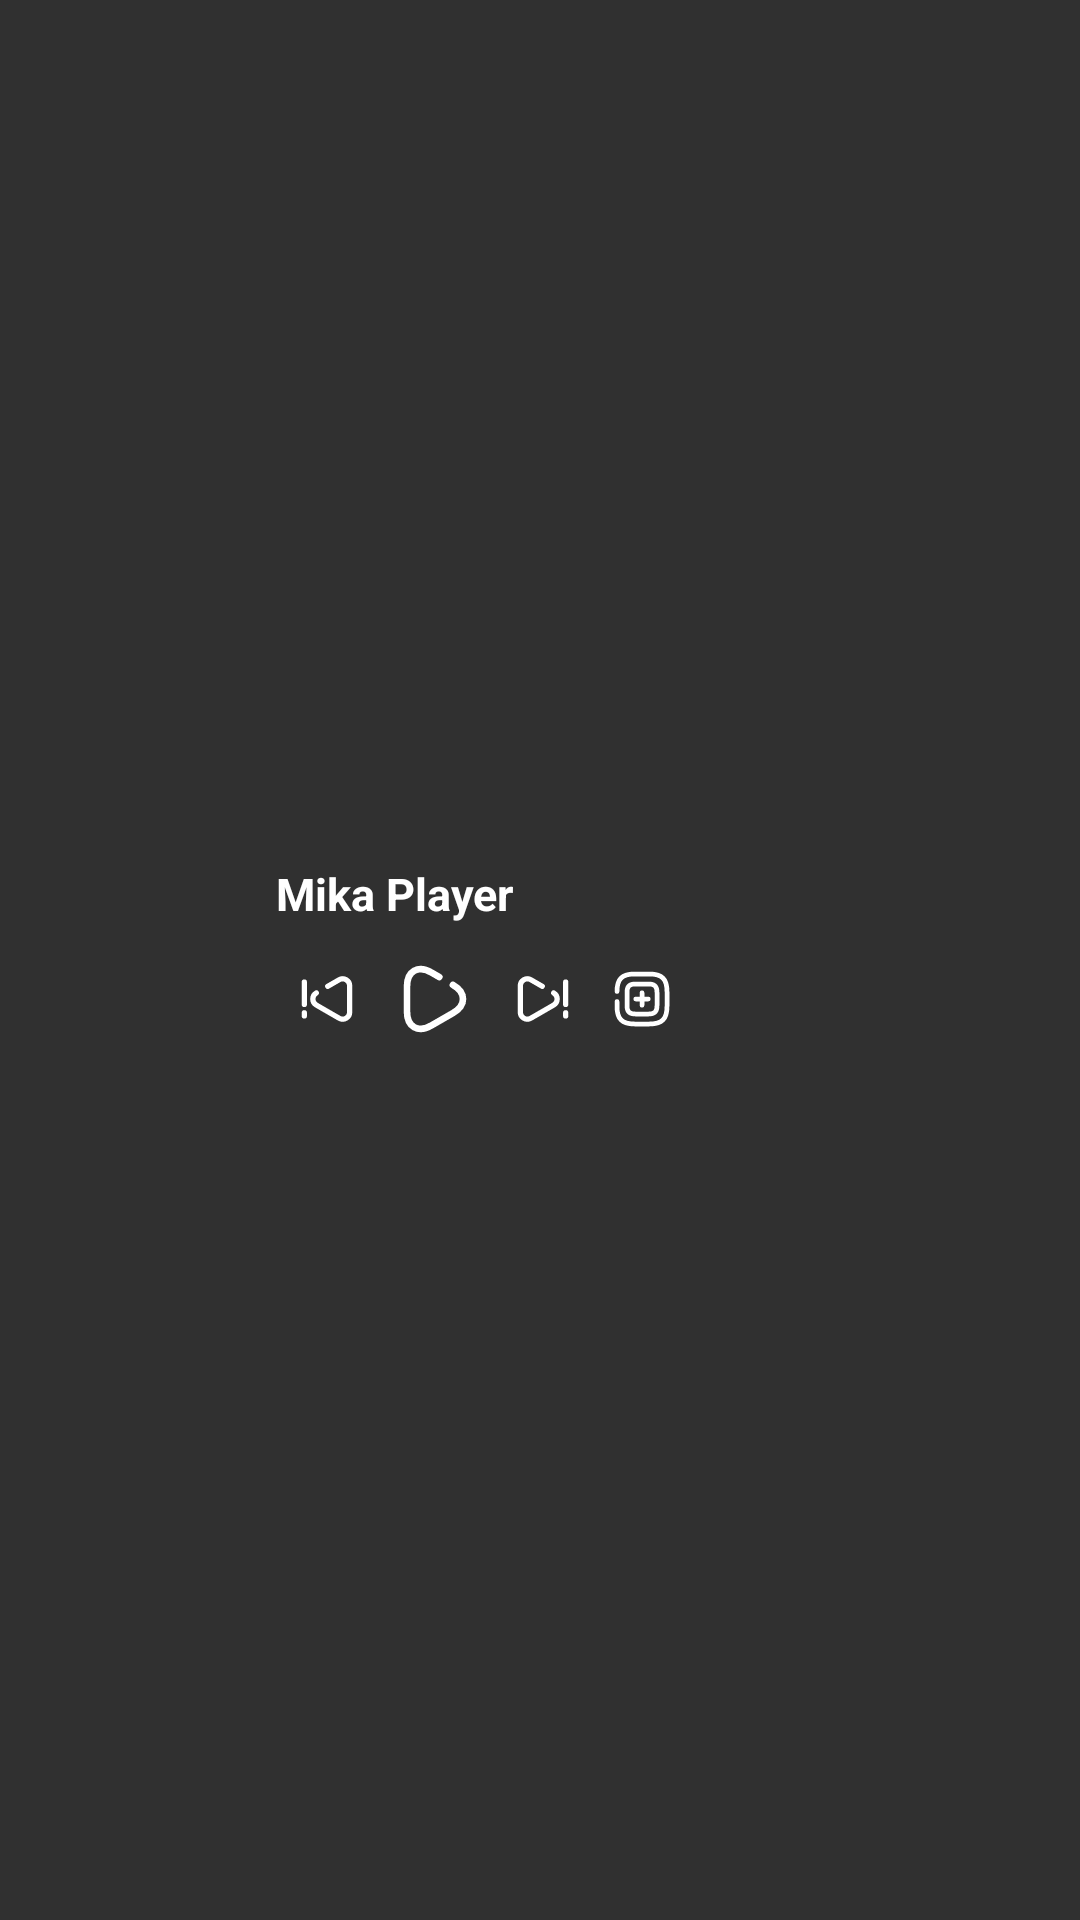

Icons on this 1080 x 1920 Android screen, each with its box as (x1, y1, x2, y2):
Next track: (517, 976, 569, 1022)
Play or pause: (403, 965, 467, 1033)
Previous track: (301, 976, 353, 1022)
